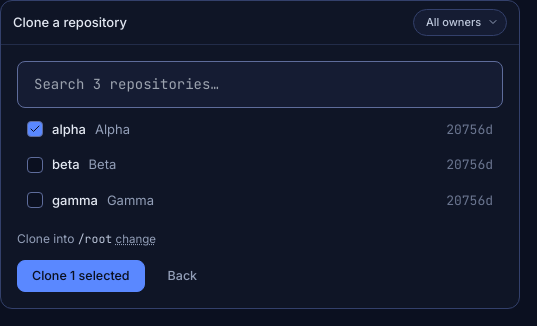
CloneFromGitHub picker › shows the server's preflight destination message (names the folder), not a generic start failure (BET-1073)
Click the button "Clone 1 selected". click: [81, 276]
box: [17, 260, 145, 292]
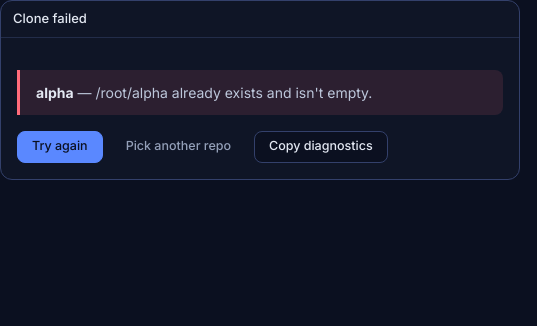
Check: the text "/root/alpha already exists and isn't empty." is shown, box [96, 84, 372, 100]
